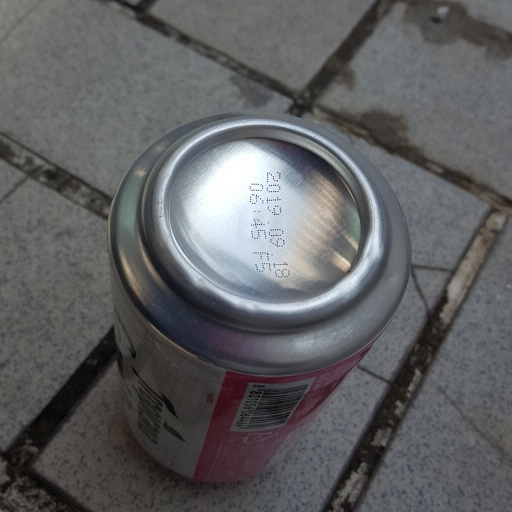Metal_0: (109, 111, 412, 479)
